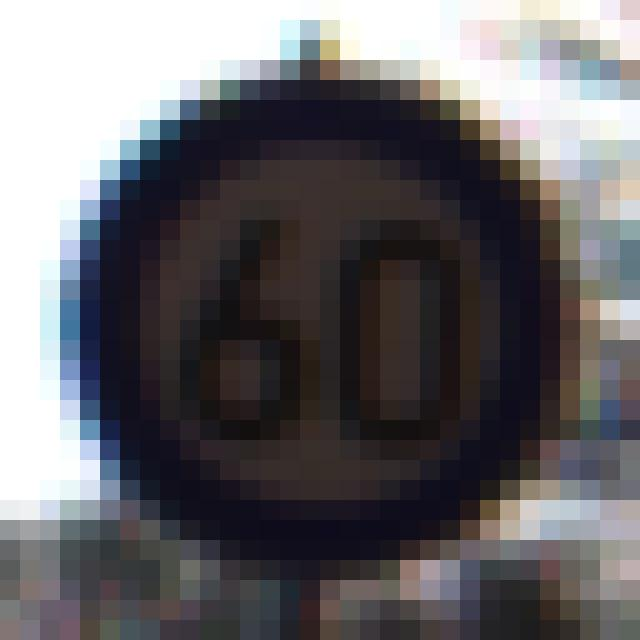SPEED-LIMIT-60: (42, 40, 585, 589)
